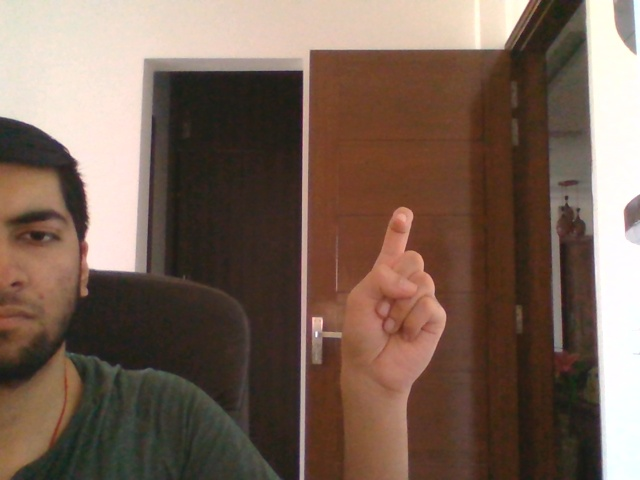LetterX: (334, 201, 449, 401)
